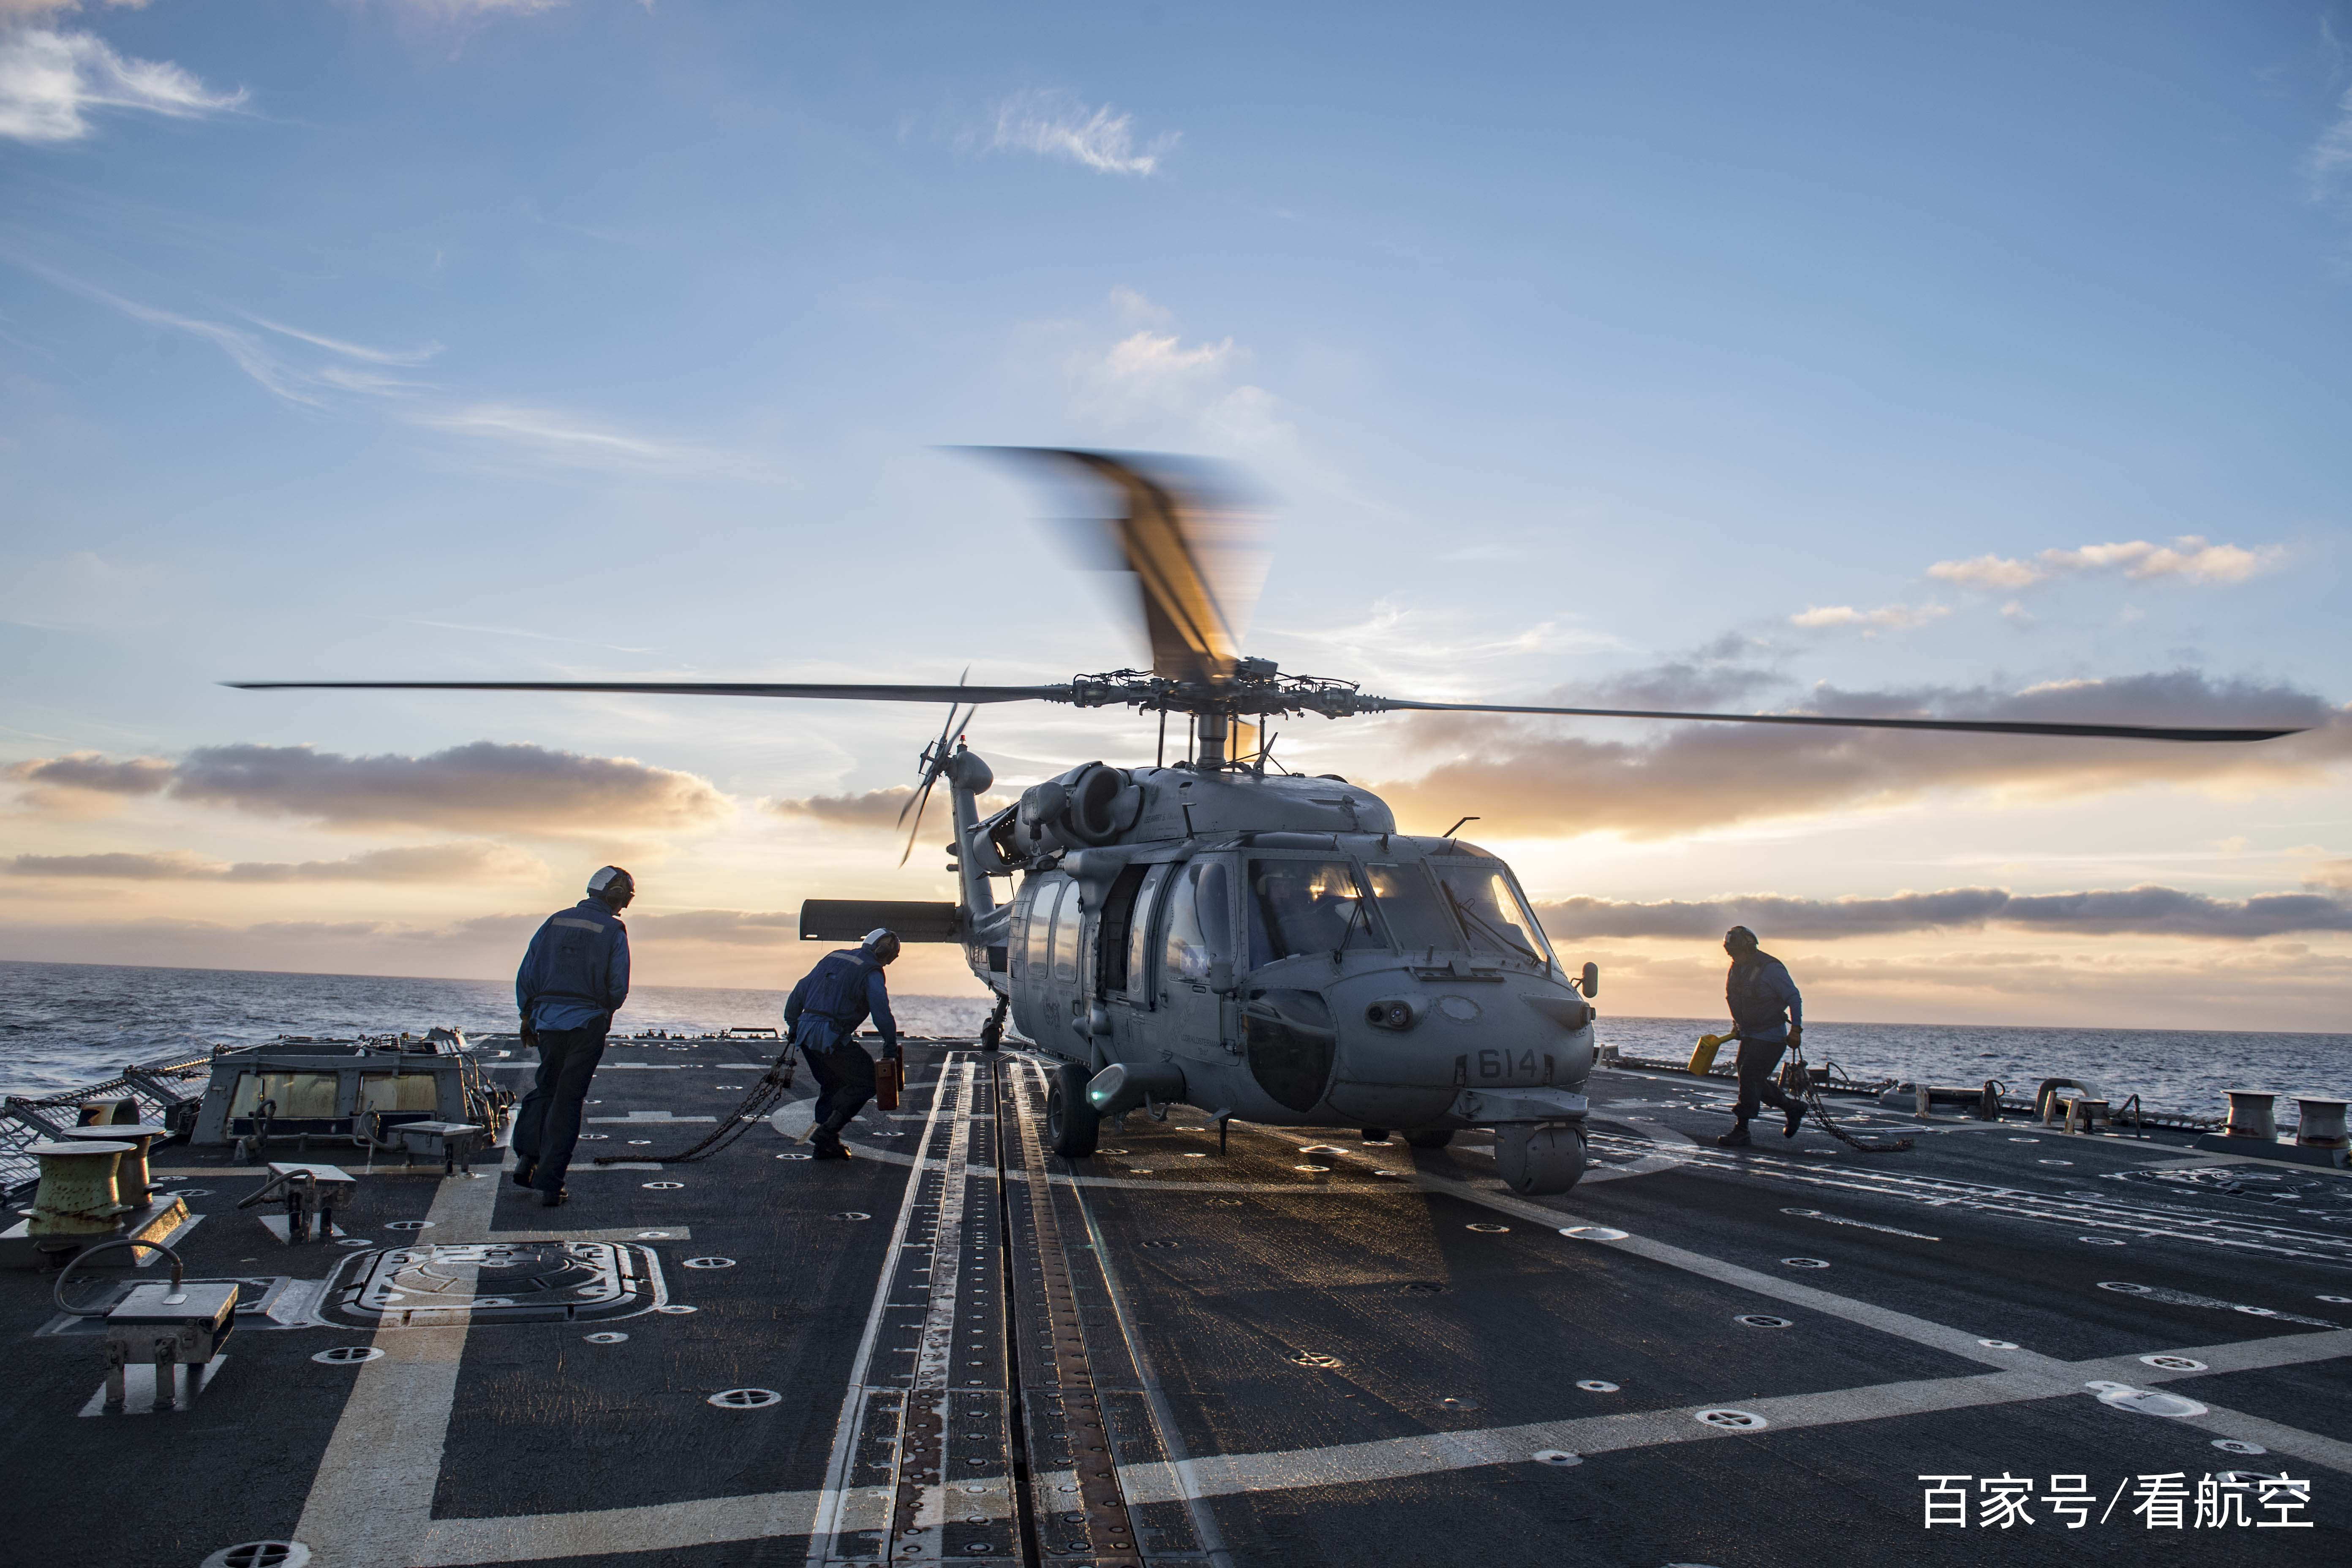Apron: (749, 1040, 1710, 1193)
